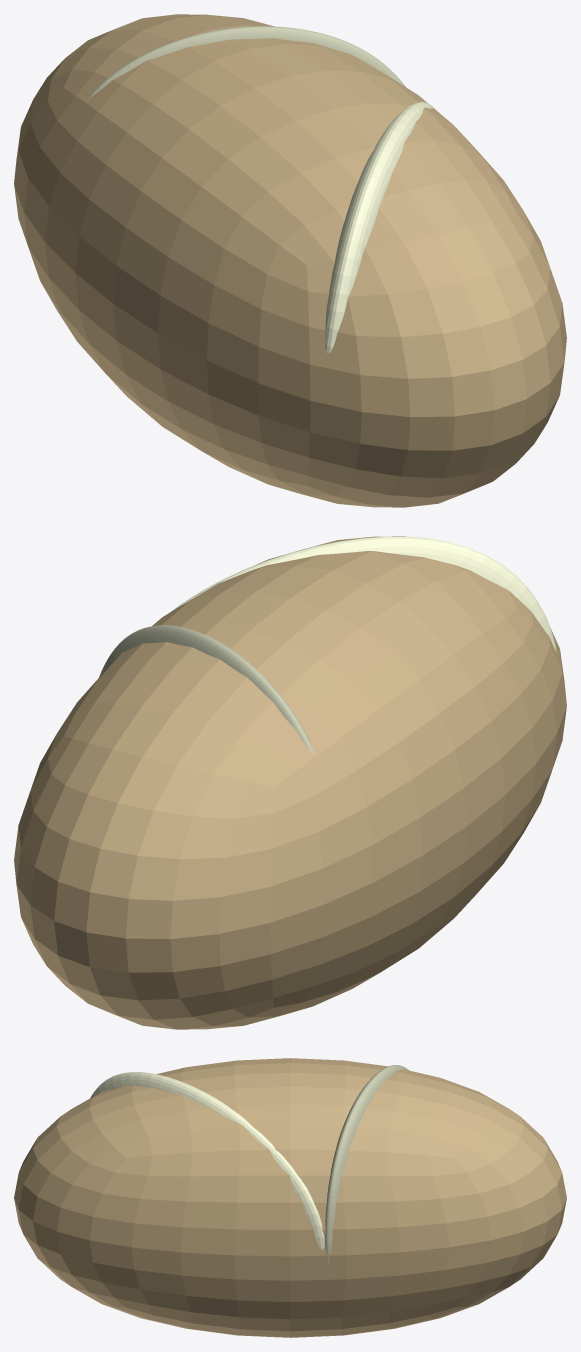
Rendered from Baby.fbx.
3 views of the same model, one above another, from view 1: azimuth 30°, elevation 25°; view 2: azimuth 150°, elevation 25°; view 3: azimuth 270°, elevation 25° (orthographic). The views are drawn at different scales.
Visible parts, largest first — view 1: Cube.001, Cube.002, Cube; view 2: Cube.001, Cube.002, Cube; view 3: Cube.001, Cube.002, Cube.
Part boxes in pixels (<box>): Cube.001: <box>14,14,566,507</box>; Cube.002: <box>325,102,435,353</box>; Cube: <box>86,26,405,99</box>; Cube.001: <box>14,536,566,1029</box>; Cube.002: <box>171,536,556,652</box>; Cube: <box>99,625,313,753</box>; Cube.001: <box>14,1058,566,1337</box>; Cube.002: <box>90,1072,324,1249</box>; Cube: <box>325,1065,408,1265</box>.
Bounding box in the file's own units: 83.95 × 83.95 × 168.
